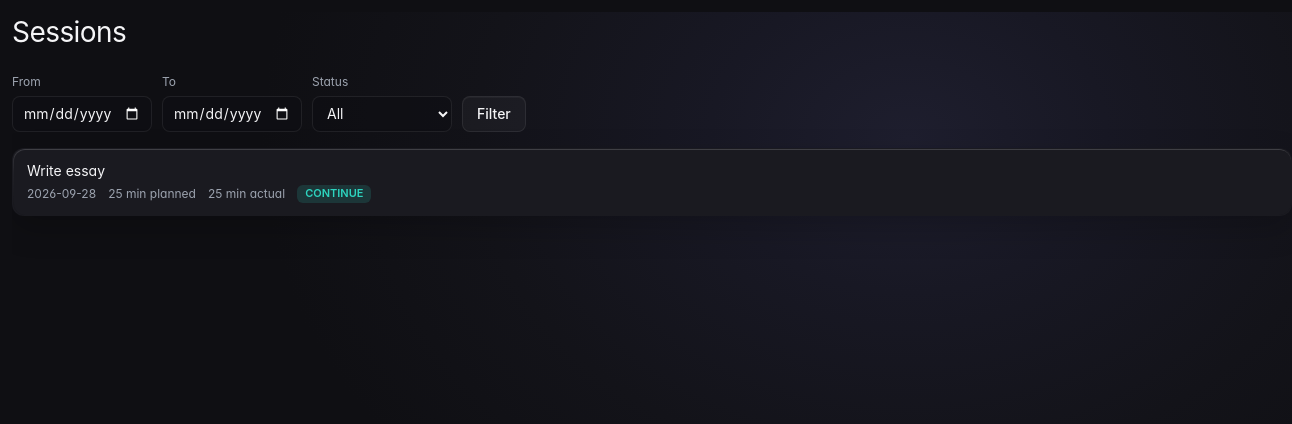
SessionHistoryView › expanding a row shows outcome and next action
The image size is (1292, 424).
Click the element with class "session-row". click: click(652, 182)
box: [12,148,1291,216]
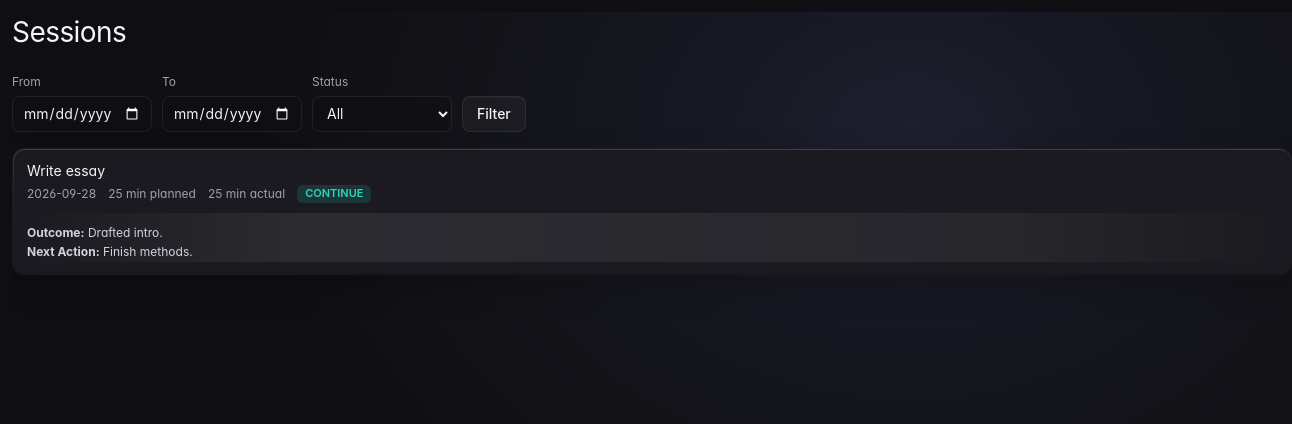
Now the text "Drafted intro." is shown, box [84,225,163,240]
Now the text "Finish methods." is shown, box [100,244,193,259]
